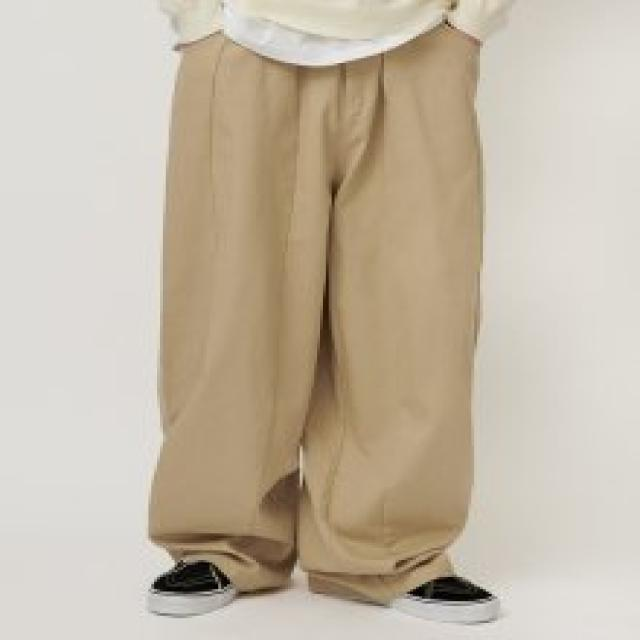long-pants: (146, 18, 480, 608)
